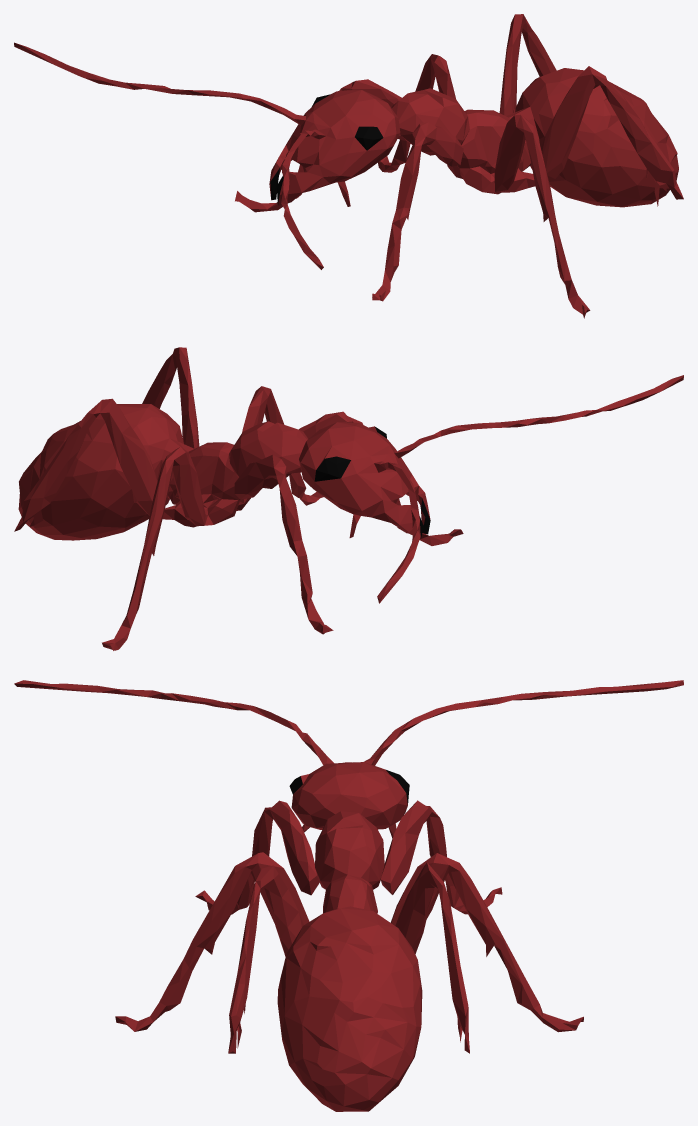
Rendered from FormigTropa_2.fbx.
The picture shows the model from 3 angles, top to bottom: view 1: azimuth 30°, elevation 25°; view 2: azimuth 150°, elevation 25°; view 3: azimuth 270°, elevation 25°; orthographic projection. The views are drawn at different scales.
Parts seen in each view (by area): view 1: tmpegim5d47.ply; view 2: tmpegim5d47.ply; view 3: tmpegim5d47.ply.
Boxes of the visible parts, x1=… form: tmpegim5d47.ply: x1=14, y1=14, x2=683, y2=318; tmpegim5d47.ply: x1=14, y1=347, x2=683, y2=650; tmpegim5d47.ply: x1=14, y1=680, x2=683, y2=1111.
Bounding box in the file's own units: 199 × 66.86 × 189.
